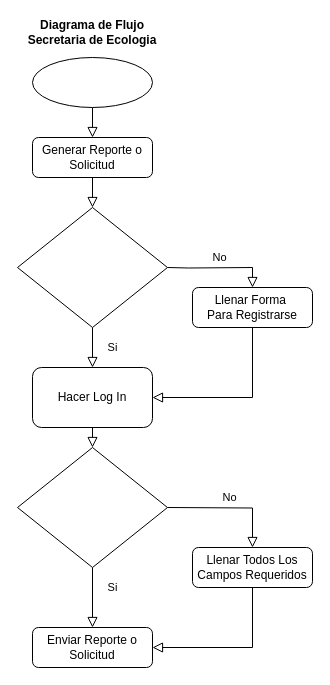
Image size: 330x685. Some labels were removed from this diagram. The shapes that lost their labels are listed below. From the top down, each one's centre as x and y in pixels, then its label:
At [92,82]: "Inicio".
At [92,267]: "El Usuario Esta Registrado?".
At [92,507]: "Ha Llenado todos los Campos de Informacion Requeridos?".
